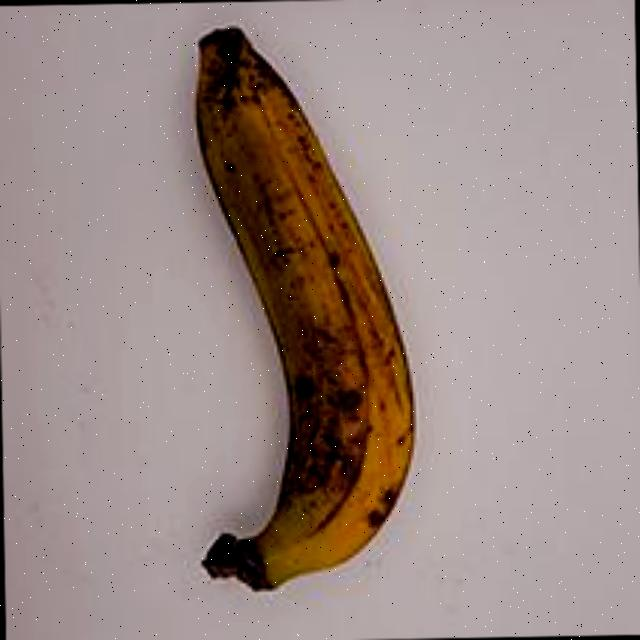Overripe: (134, 3, 446, 625)
